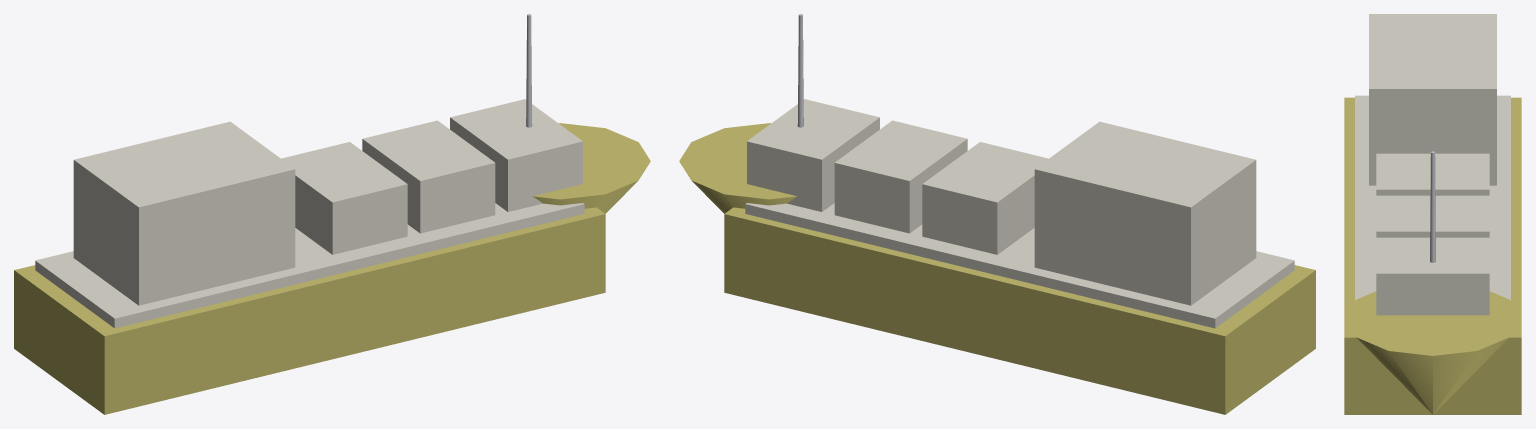
Rendered from fpso_hull.glb.
3 renders of one model, left to right at view 1: azimuth 30°, elevation 25°; view 2: azimuth 150°, elevation 25°; view 3: azimuth 270°, elevation 25°, orthographic.
Parts seen in each view (by area): view 1: fpso_hull; view 2: fpso_hull; view 3: fpso_hull.
Part boxes in pixels (x1,y1,x2,y2): fpso_hull: [14, 14, 650, 414]; fpso_hull: [679, 14, 1315, 414]; fpso_hull: [1344, 14, 1521, 414].
Bounding box in the file's own units: 9.25 × 3.85 × 2.5.
